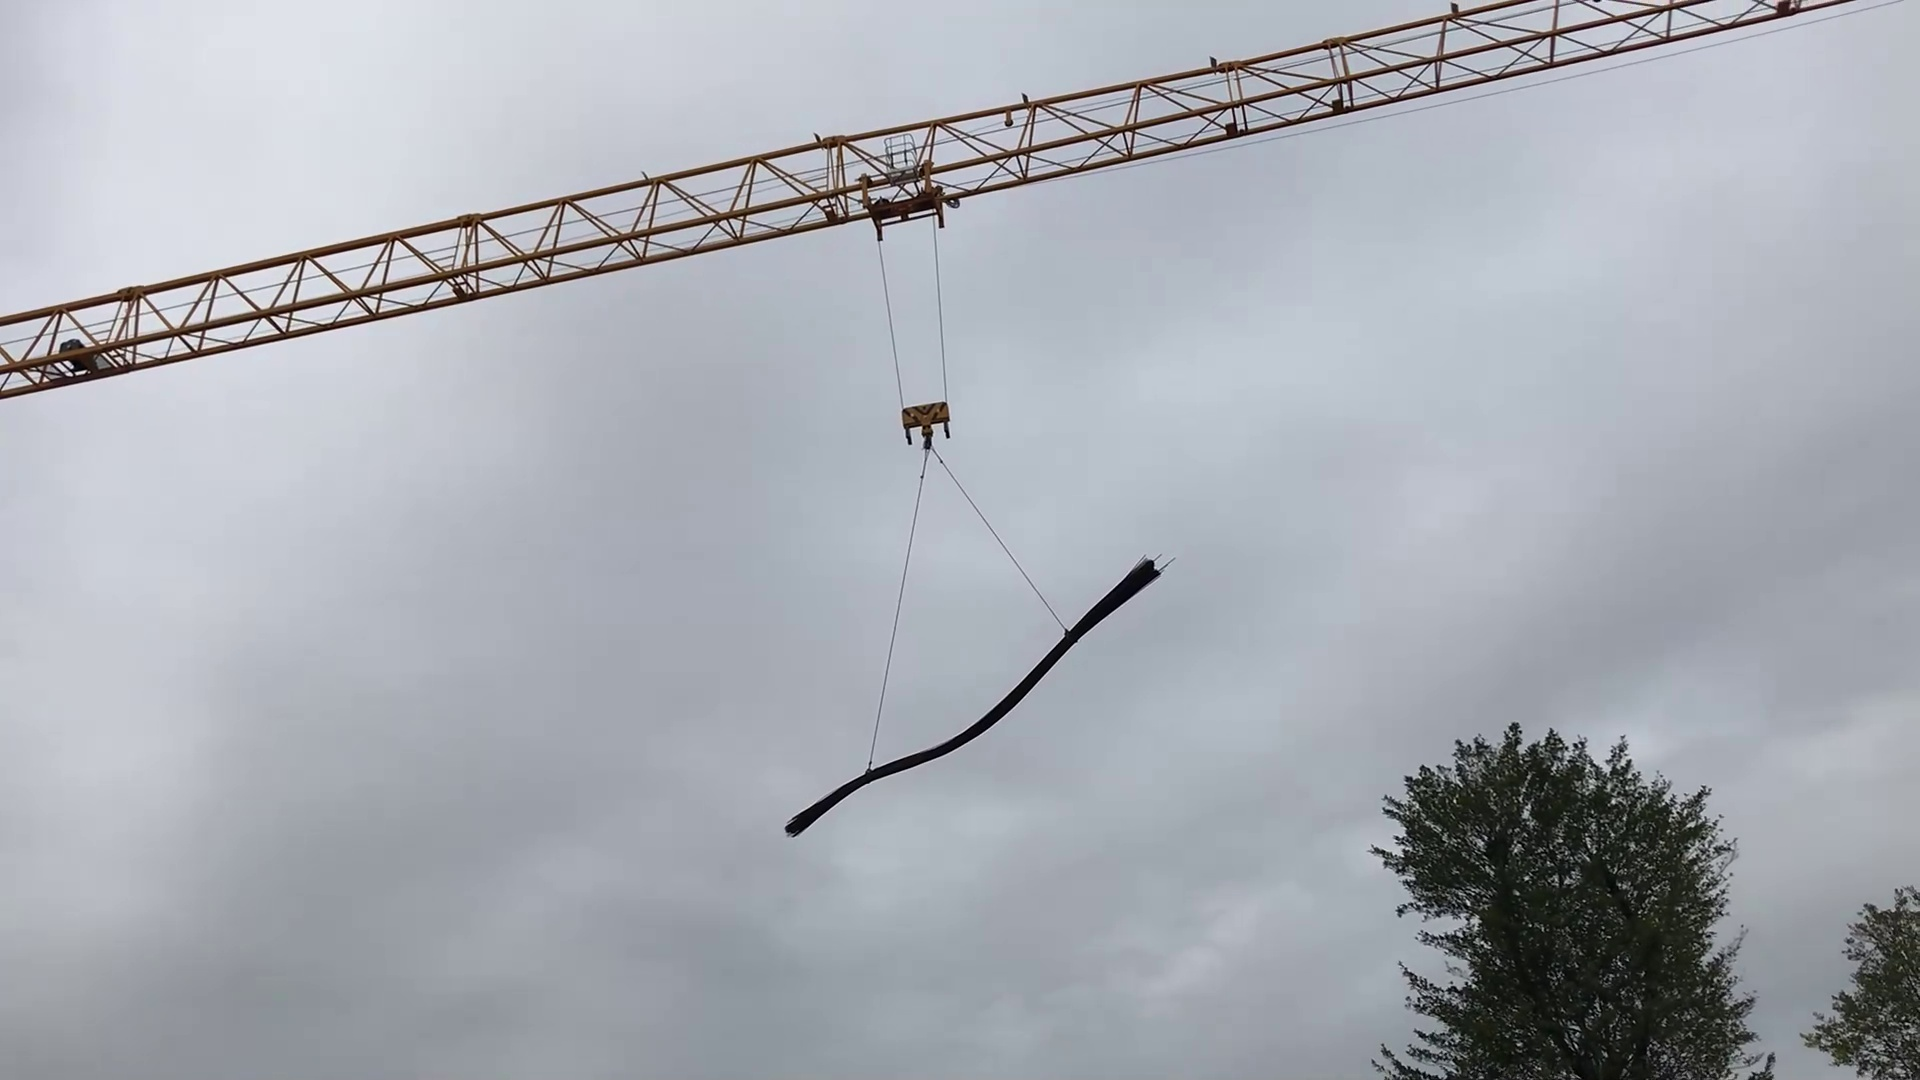hook: (893, 392, 960, 463)
rebar: (775, 550, 1182, 844)
